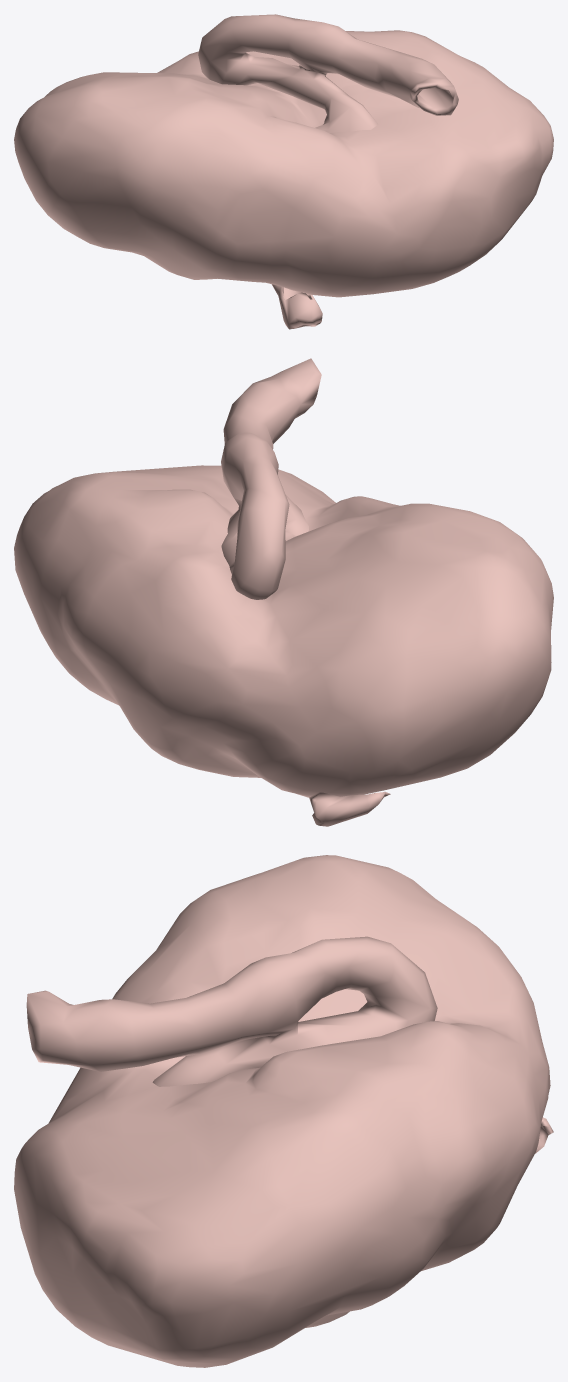
File: nih_m_lymph_node-20.glb
3 renders of one model, top to bottom at view 1: azimuth 30°, elevation 25°; view 2: azimuth 150°, elevation 25°; view 3: azimuth 270°, elevation 25°, orthographic. The views are drawn at different scales.
Parts seen in each view (by area): view 1: Yao_capsule_of_lymph_node, Yao_efferent_lymph_node, Yao_afferent_lymphatic_vessel; view 2: Yao_capsule_of_lymph_node, Yao_efferent_lymph_node, Yao_afferent_lymphatic_vessel; view 3: Yao_capsule_of_lymph_node, Yao_efferent_lymph_node.
Boxes of the visible parts, x1,y1,x2,y2 form: Yao_capsule_of_lymph_node: [14, 30, 553, 297]; Yao_efferent_lymph_node: [198, 14, 458, 132]; Yao_afferent_lymphatic_vessel: [272, 284, 322, 329]; Yao_capsule_of_lymph_node: [14, 465, 553, 797]; Yao_efferent_lymph_node: [221, 358, 321, 599]; Yao_afferent_lymphatic_vessel: [309, 792, 390, 826]; Yao_capsule_of_lymph_node: [14, 855, 550, 1367]; Yao_efferent_lymph_node: [26, 936, 437, 1086].
Size of the model in its own units: 0.0183 by 0.0106 by 0.013.
